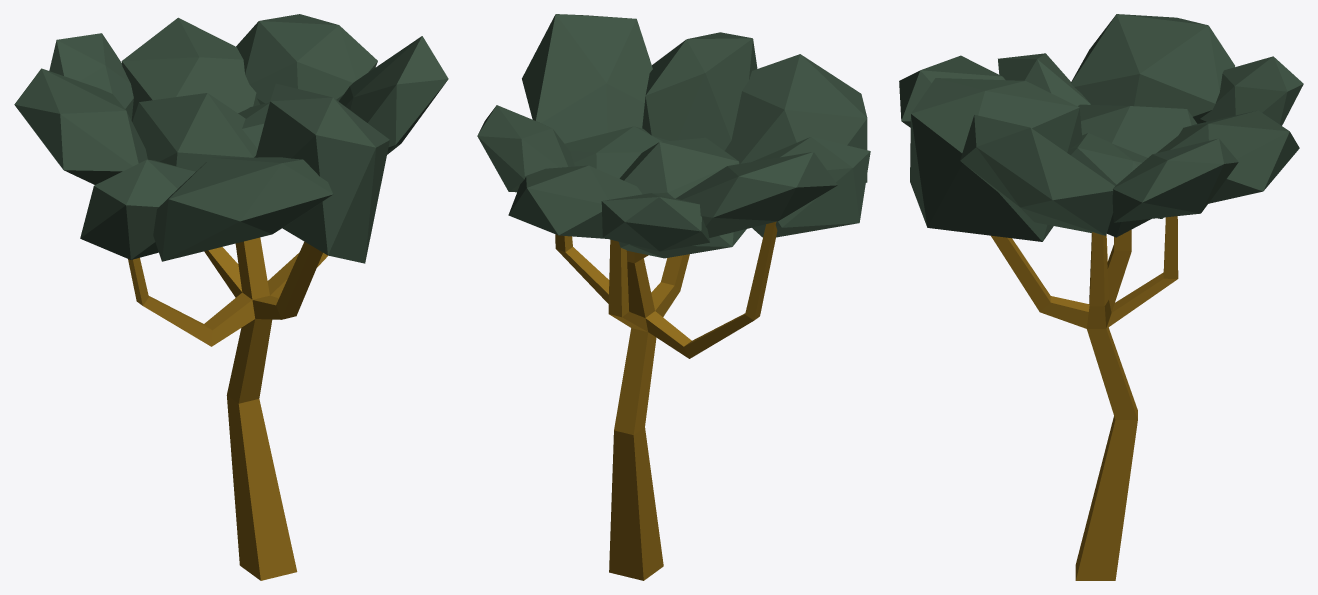
File: GrasslandsTreeType12.fbx
The picture shows the model from 3 angles, left to right: view 1: azimuth 30°, elevation 25°; view 2: azimuth 150°, elevation 25°; view 3: azimuth 270°, elevation 25°; orthographic projection. The views are drawn at different scales.
Parts seen in each view (by area): view 1: GrasslandsTreeType12; view 2: GrasslandsTreeType12; view 3: GrasslandsTreeType12.
Boxes of the visible parts, bbox=[...] form: GrasslandsTreeType12: bbox=[14, 14, 448, 580]; GrasslandsTreeType12: bbox=[477, 14, 870, 580]; GrasslandsTreeType12: bbox=[899, 14, 1303, 580].
Size of the model in its own units: 3.89 by 5.55 by 4.07.
